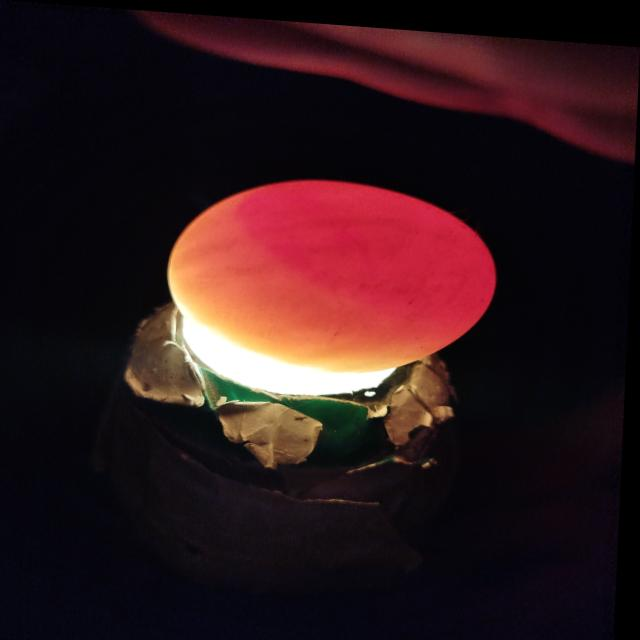Gema Quebrada: (235, 176, 497, 320)
